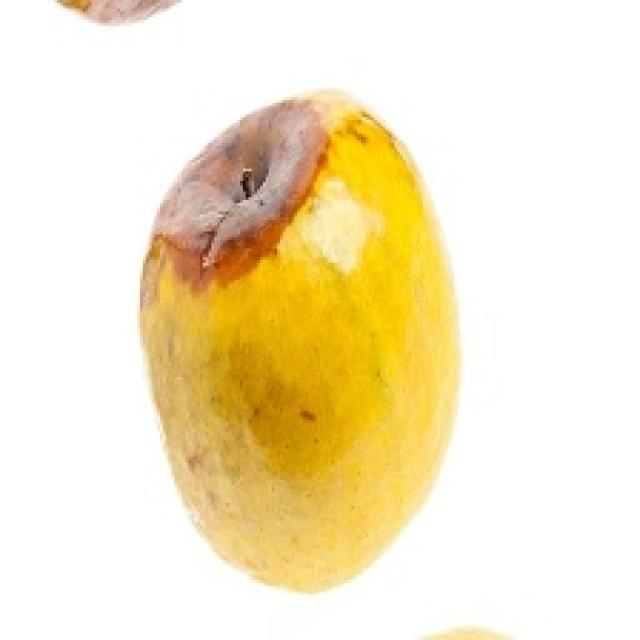rotten_apple: (144, 100, 452, 587)
